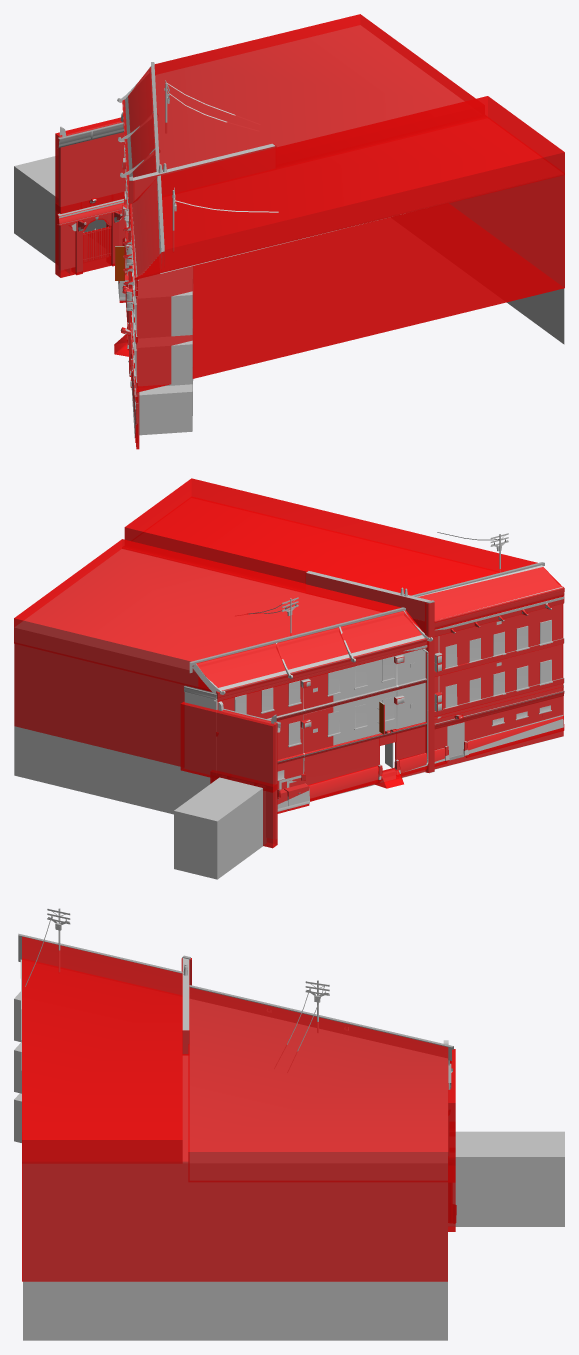
Rendered from CT_building_009.dae.
3 renders of one model, top to bottom at view 1: azimuth 30°, elevation 25°; view 2: azimuth 150°, elevation 25°; view 3: azimuth 270°, elevation 25°, orthographic. The views are drawn at different scales.
Visible parts, largest first — view 1: ColMesh-2, _009_building800, _009_building400; view 2: ColMesh-2, _009_building800, _009_building400, _009_building100; view 3: _009_building800, ColMesh-2.
Part boxes in pixels (bbox=[...]): ColMesh-2: bbox=[55, 14, 564, 449]; _009_building800: bbox=[14, 25, 564, 436]; _009_building400: bbox=[58, 74, 176, 437]; ColMesh-2: bbox=[14, 478, 564, 848]; _009_building800: bbox=[14, 532, 564, 879]; _009_building400: bbox=[184, 545, 563, 808]; _009_building100: bbox=[184, 611, 562, 779]; _009_building800: bbox=[14, 908, 564, 1340]; ColMesh-2: bbox=[22, 936, 456, 1281].
Bounding box in the file's own units: 364 × 194 × 387.
